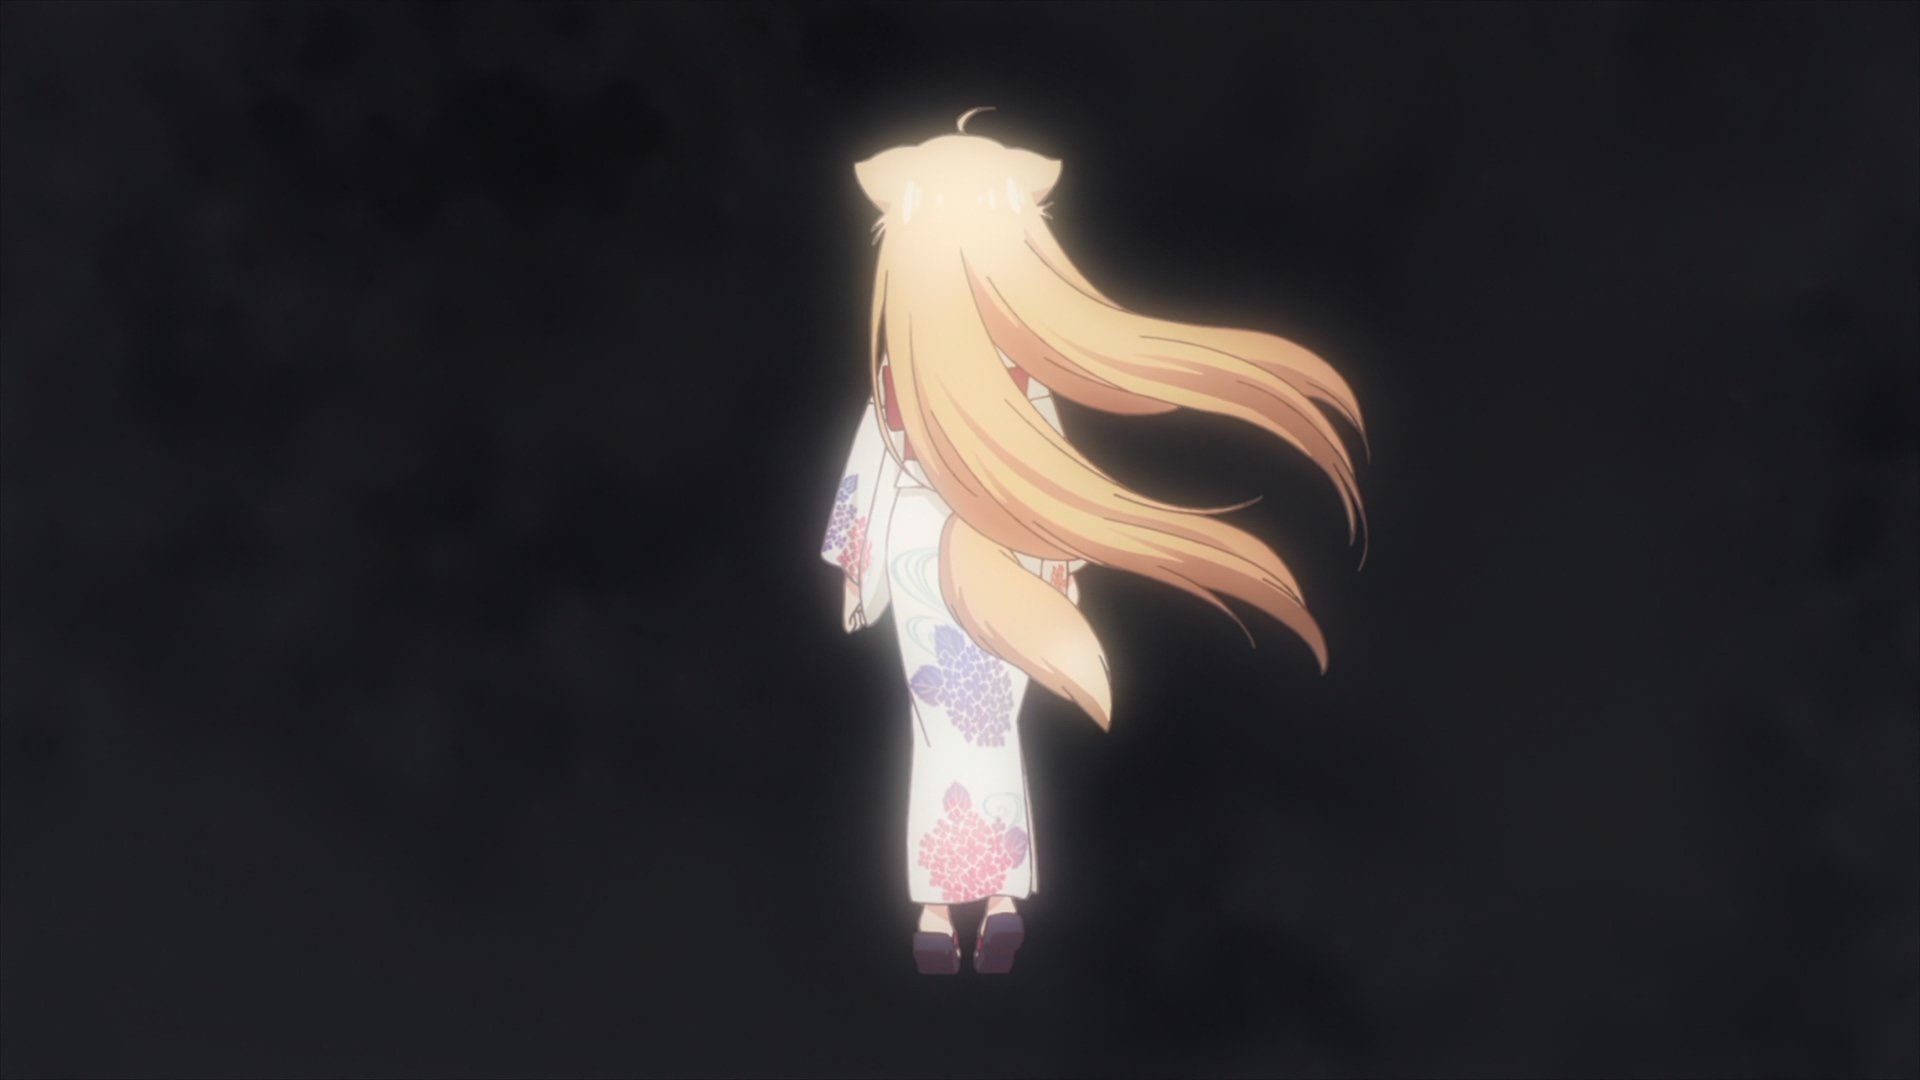柚: (820, 104, 1367, 977)
